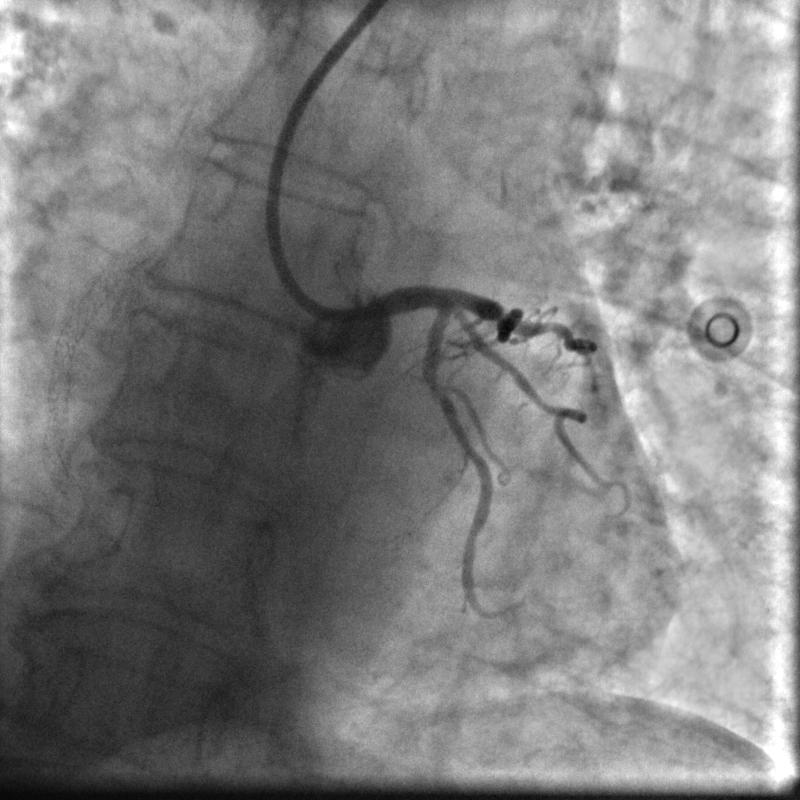Stenosis: (419, 373, 454, 398)
